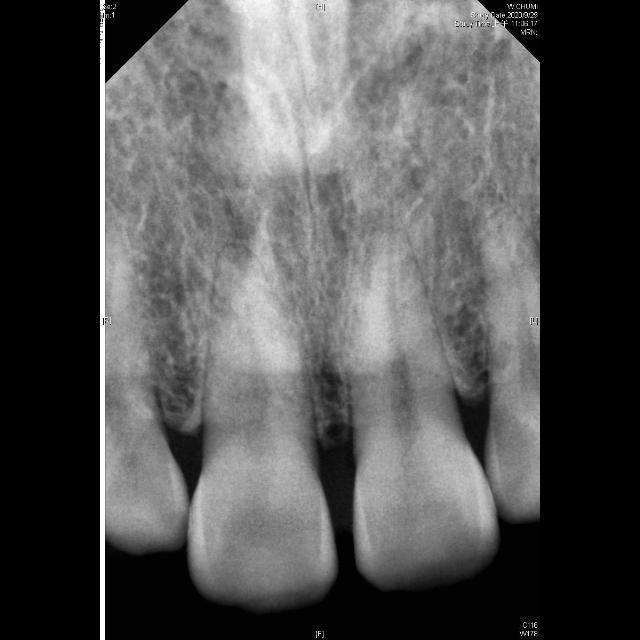teeth: (189, 249, 336, 612), (351, 232, 497, 589)
